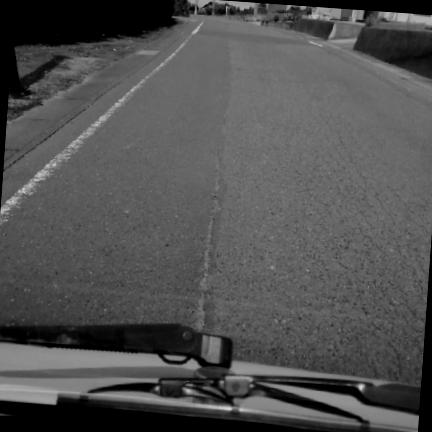Road: (0, 18, 431, 382)
